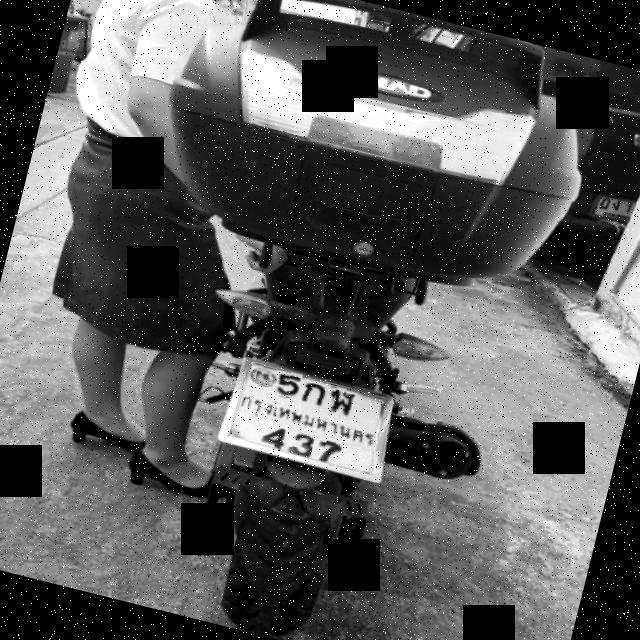letters: (262, 365, 302, 400), (299, 374, 332, 408), (264, 422, 291, 448), (332, 384, 358, 410), (290, 432, 315, 458), (320, 437, 340, 467)
license-plate: (228, 362, 385, 473)
province: (238, 385, 388, 452)
